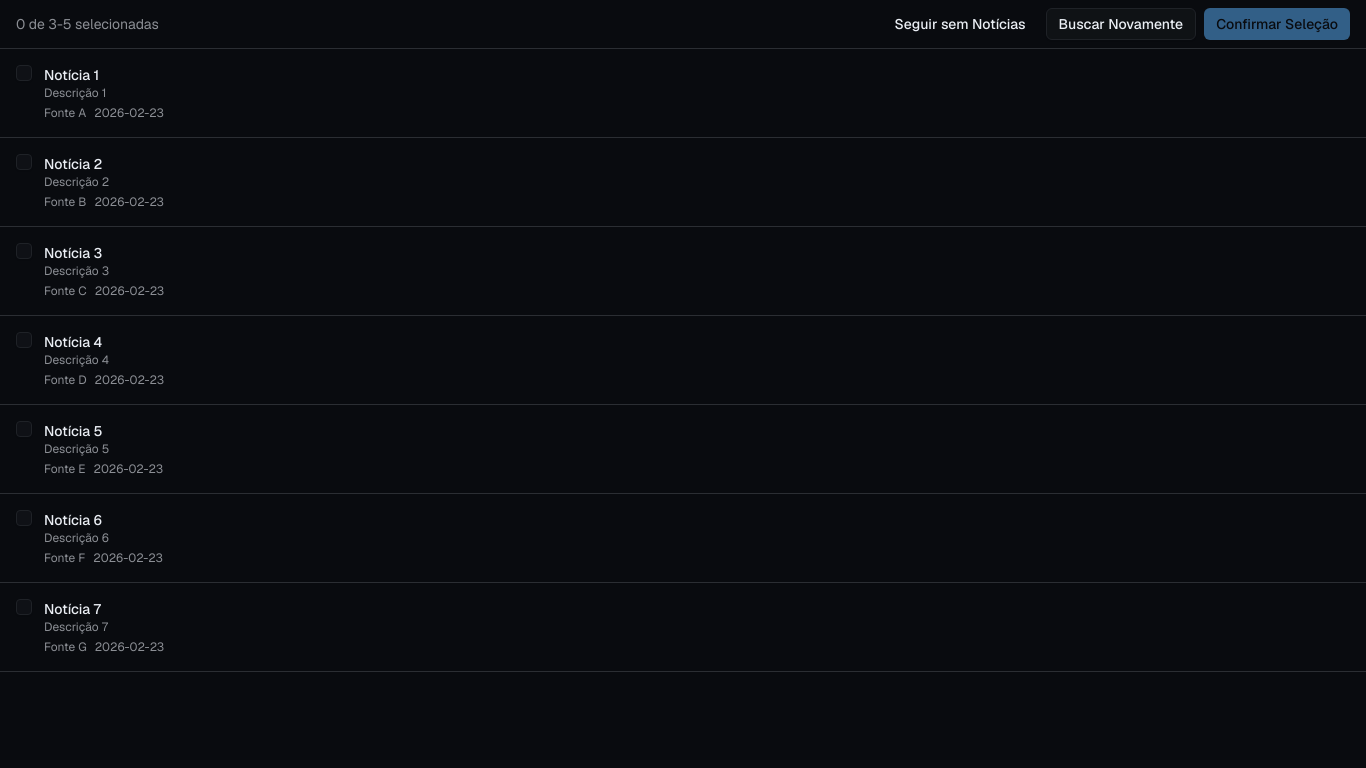
Test case: NewsletterNewsPhase › aplica fadeout em notícias não selecionadas ao atingir limite de 5
# Select 5 items
Click the checkbox named "Selecionar Notícia 1" at (24, 73), box [16,65,32,81]
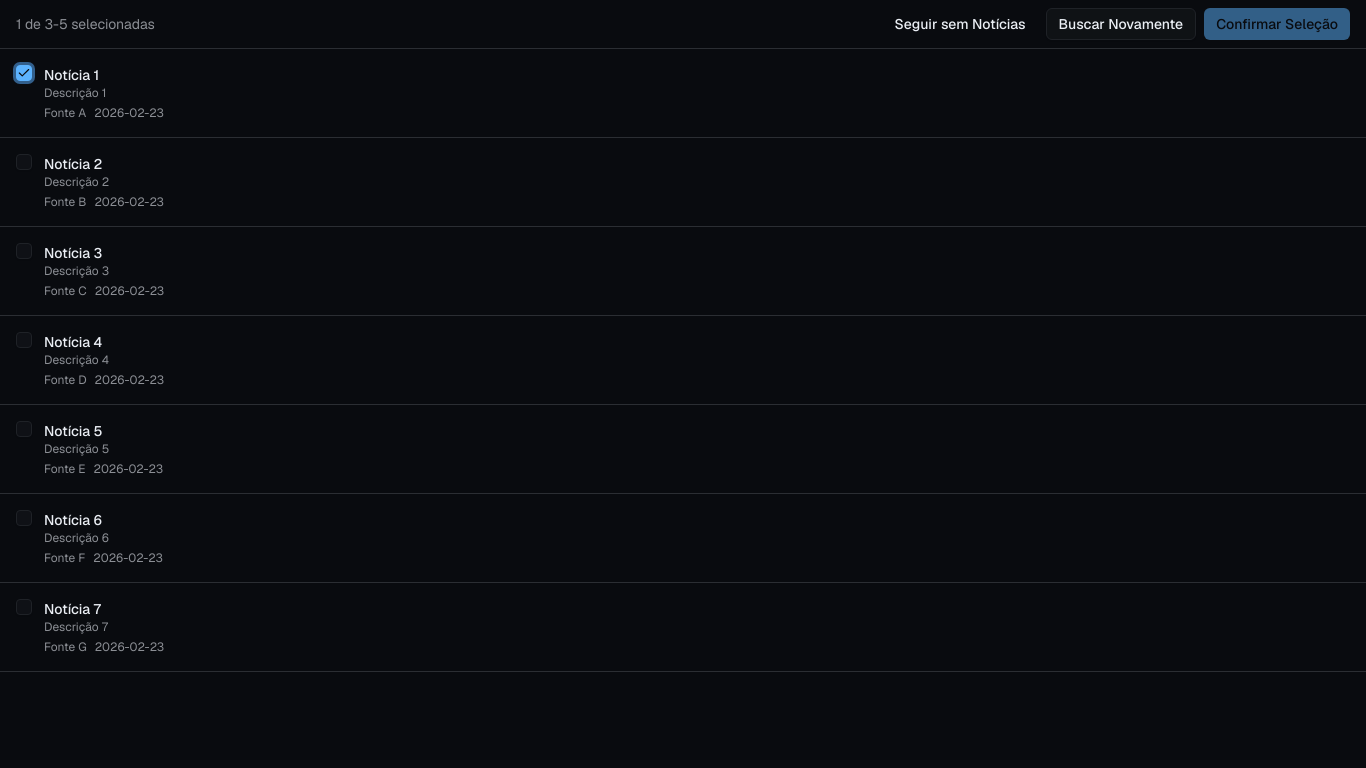
Click the checkbox named "Selecionar Notícia 2" at (24, 162), box [16,154,32,170]
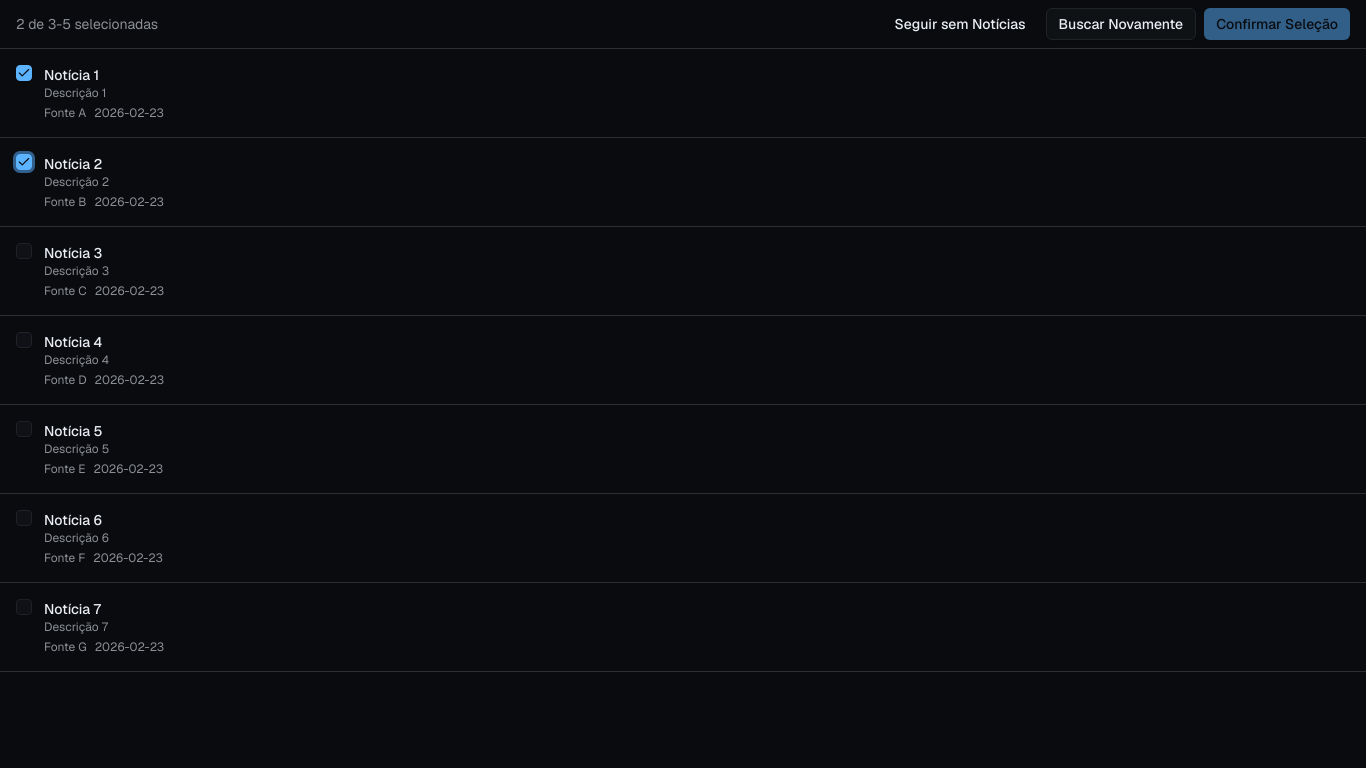
Click the checkbox named "Selecionar Notícia 3" at (24, 251), box [16,243,32,259]
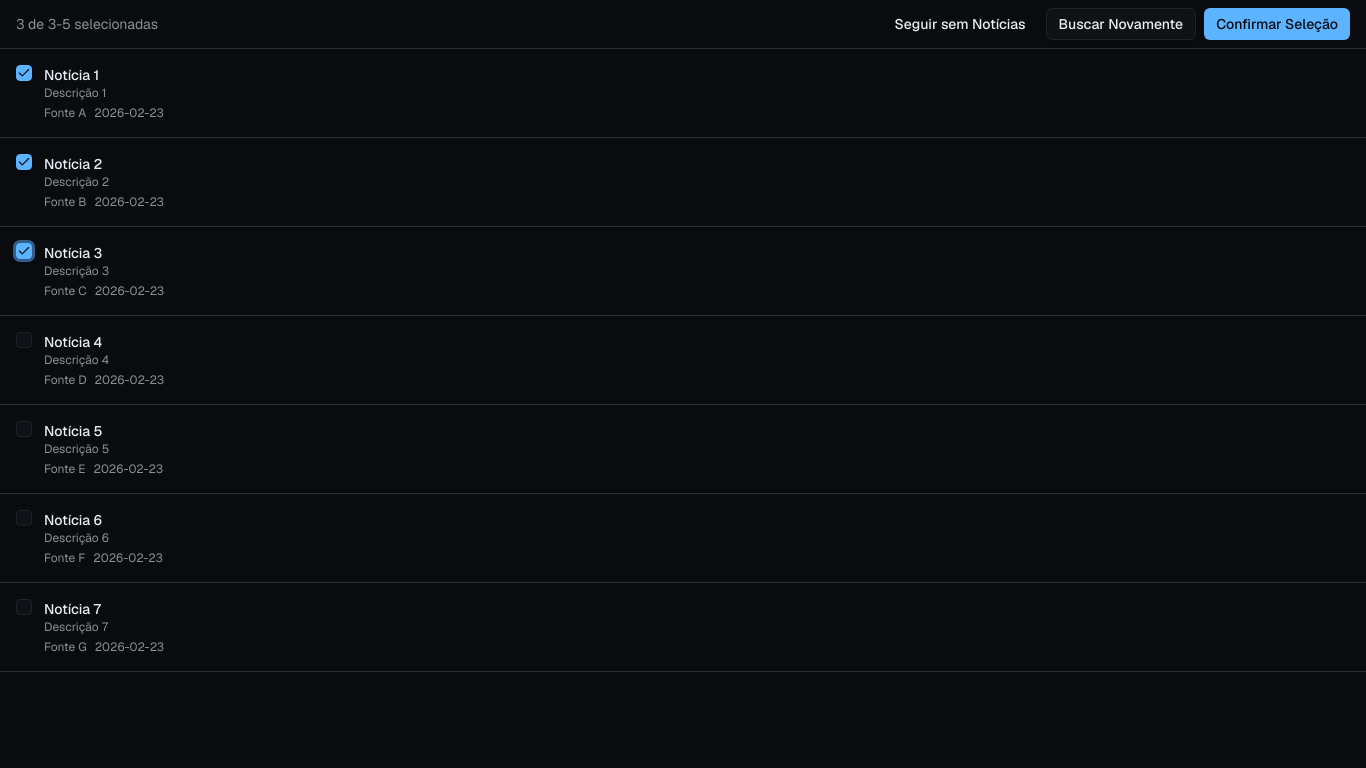
Click the checkbox named "Selecionar Notícia 4" at (24, 340), box [16,332,32,348]
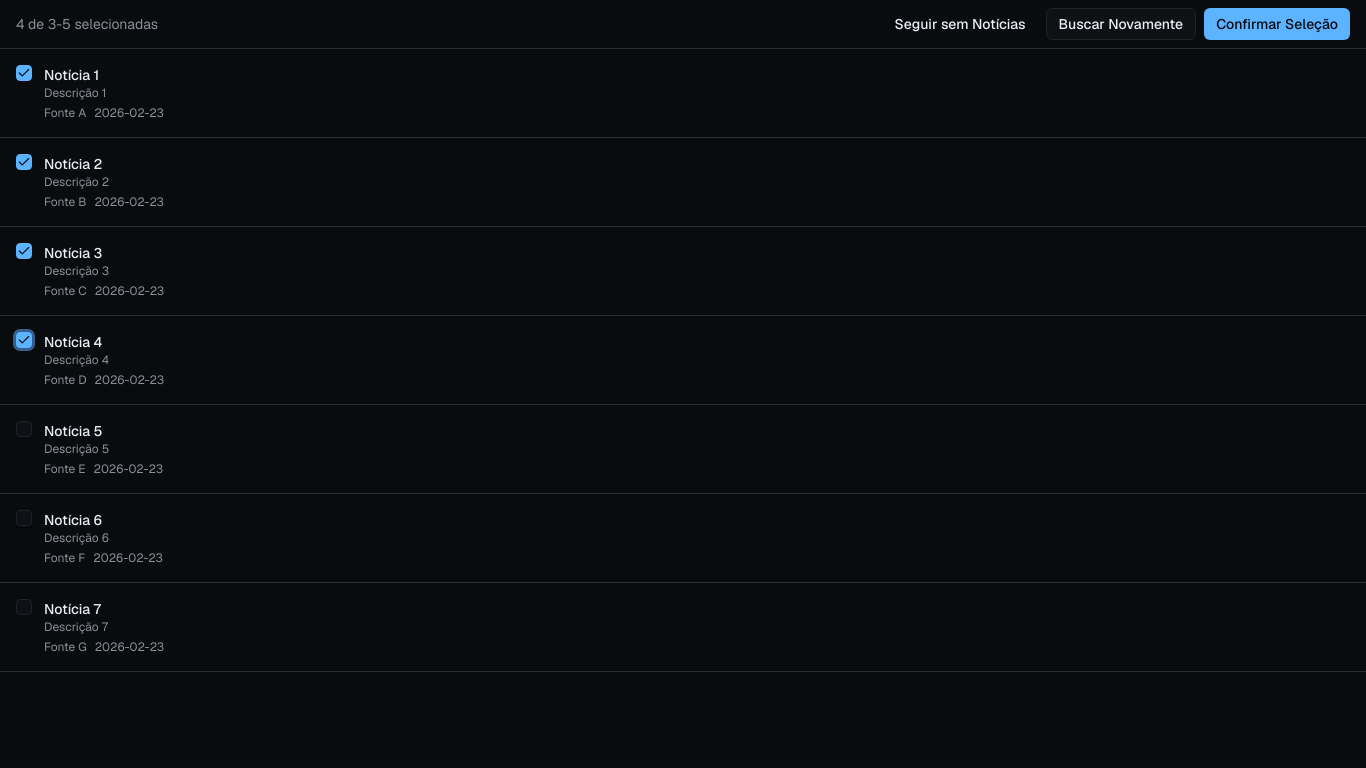
Click the checkbox named "Selecionar Notícia 5" at (24, 429), box [16,421,32,437]
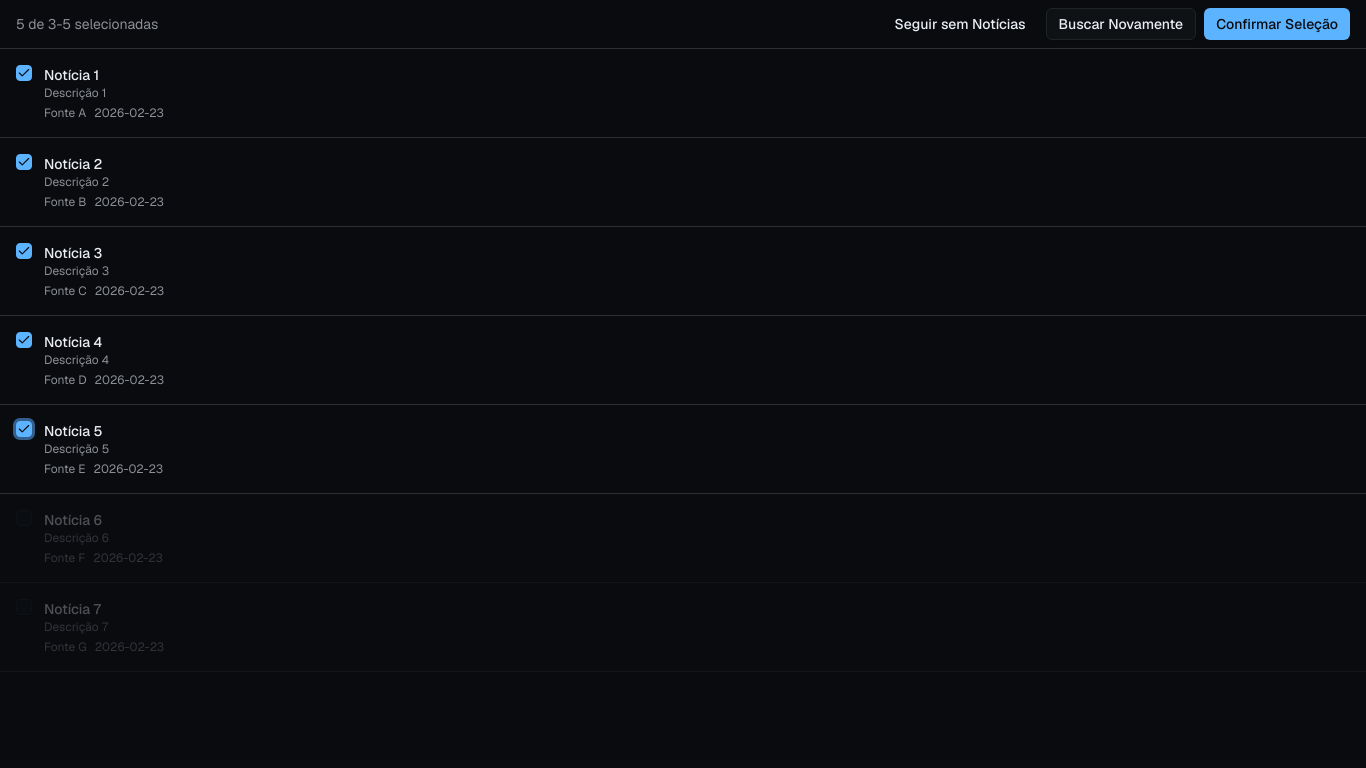
Expected: the text "Notícia 6" has class "opacity-30", [0,494,1365,583]
Expected: the text "Notícia 6" has class "pointer-events-none", [0,494,1365,583]
Expected: the text "Notícia 7" has class "opacity-30", [0,583,1365,672]
# Deselecting one removes fadeout from all
Click the checkbox named "Selecionar Notícia 5" at (24, 429), box [16,421,32,437]
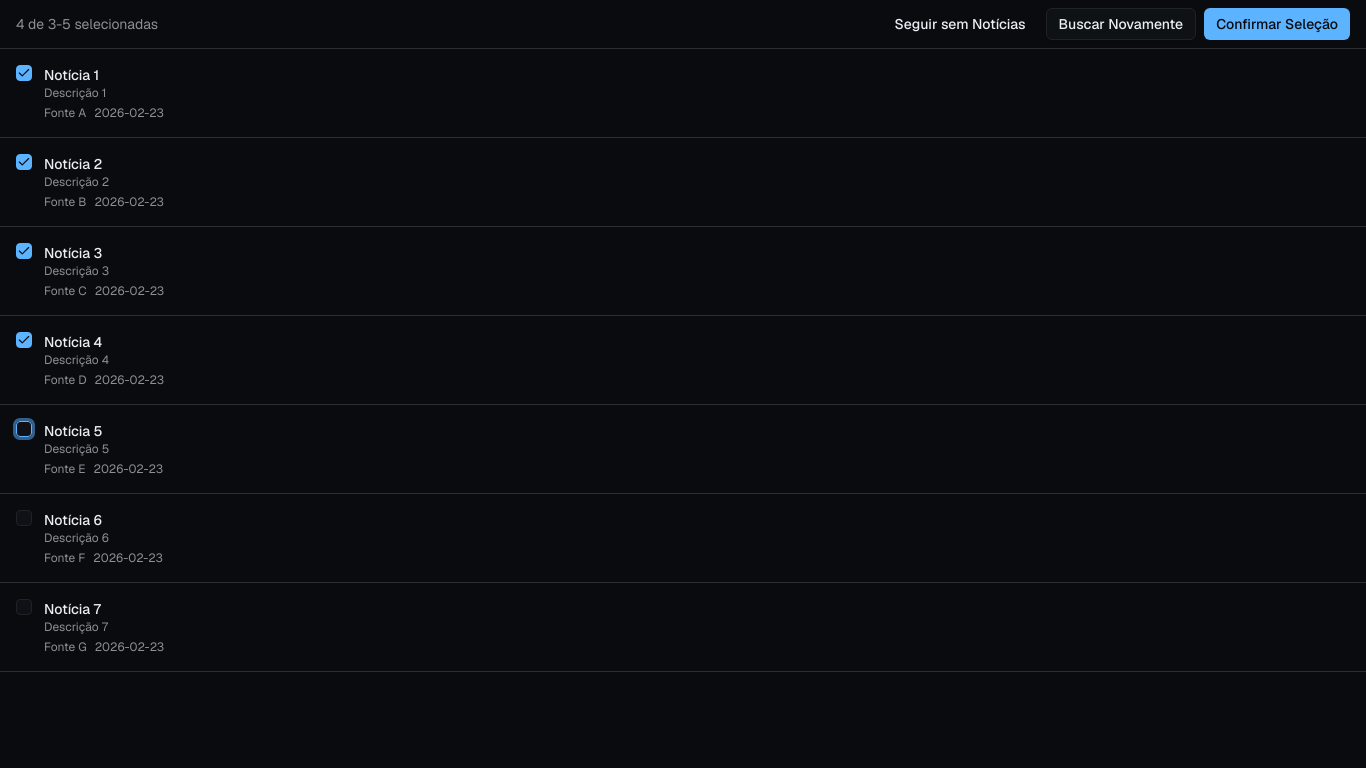
Expected: the text "4 de 3-5 selecionadas" is shown, [16,14,158,34]
